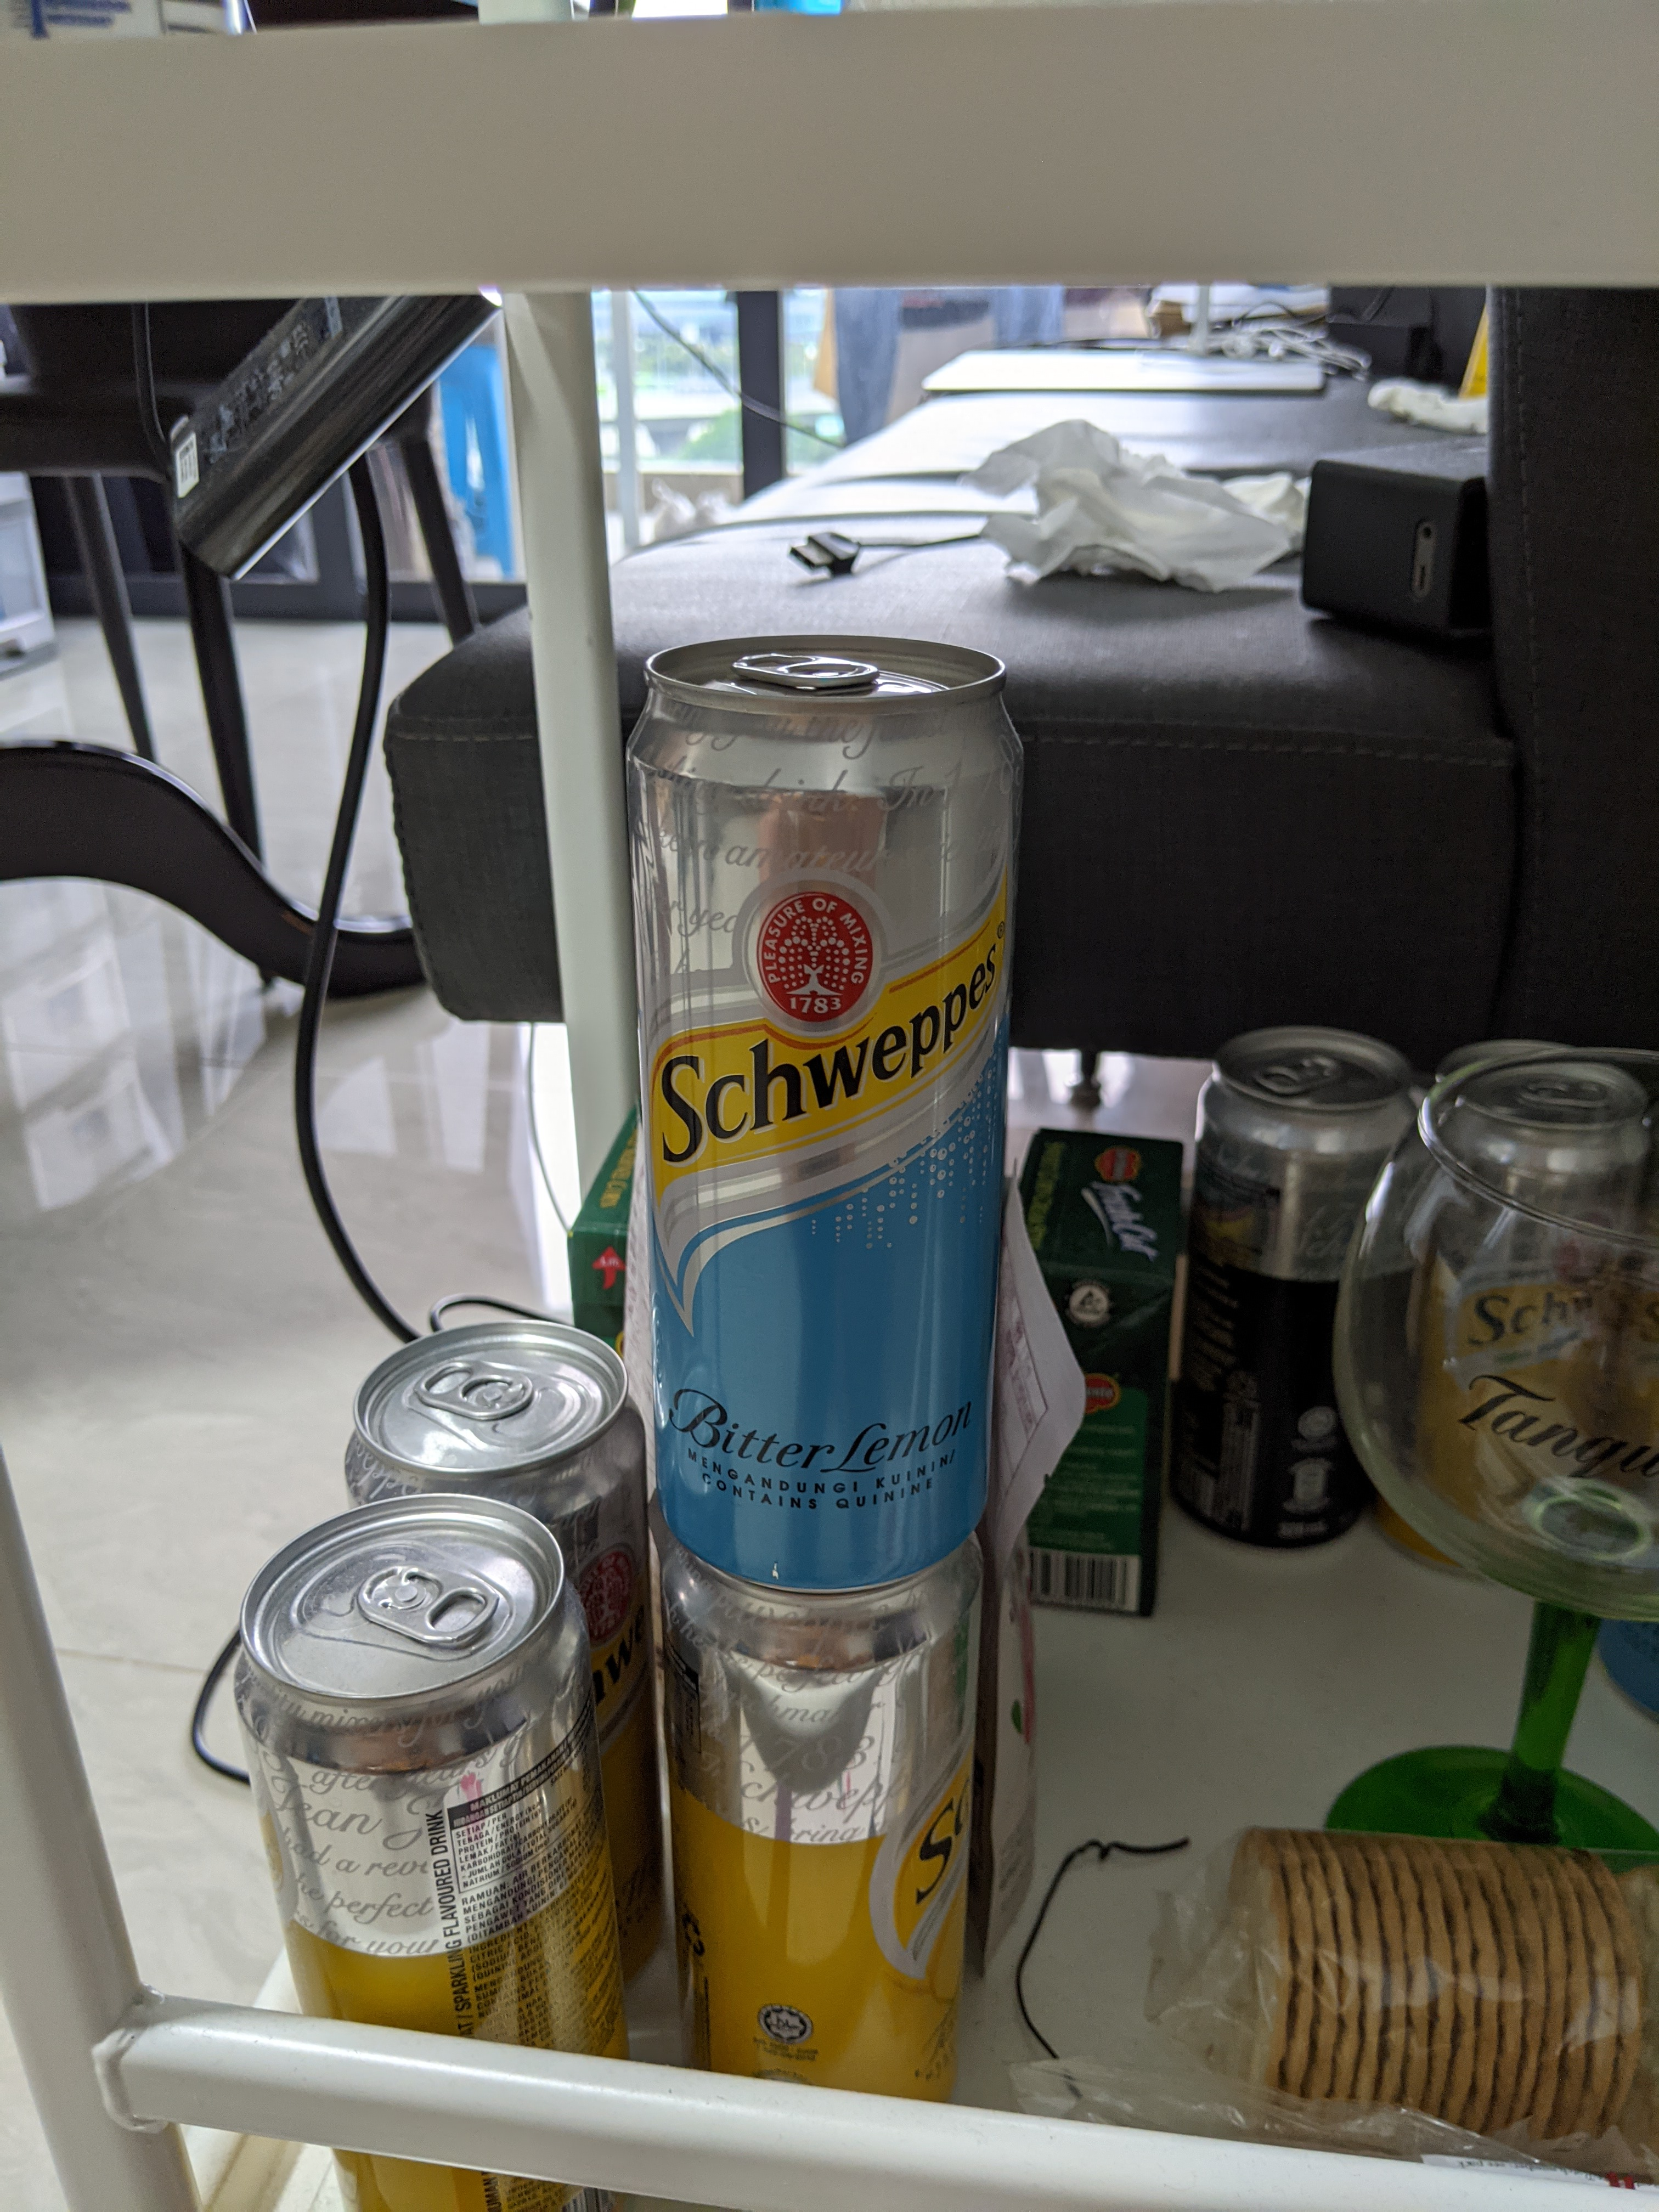schweppes drink can bitter lemon: (598, 611, 1065, 1615)
